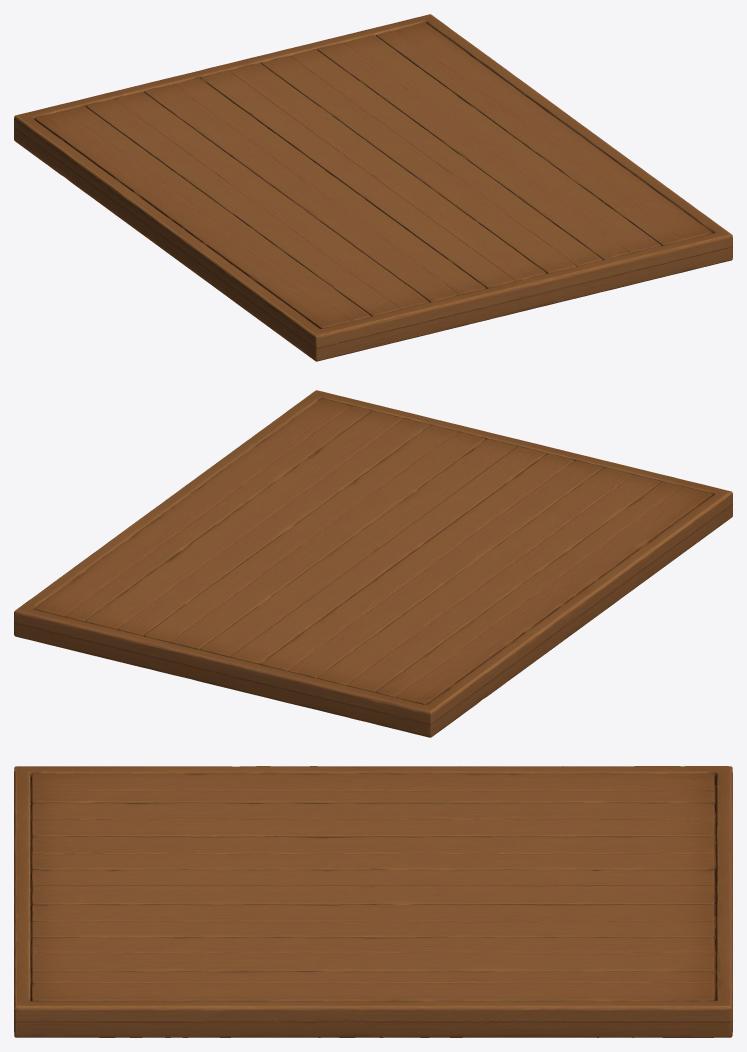
The model's file is plank.glb.
3 views of the same model, one above another, from view 1: azimuth 30°, elevation 25°; view 2: azimuth 150°, elevation 25°; view 3: azimuth 270°, elevation 25° (orthographic). The views are drawn at different scales.
Parts seen in each view (by area): view 1: tripo_node_e6050f06-b7c0-493a-a696-3325ead1f26e; view 2: tripo_node_e6050f06-b7c0-493a-a696-3325ead1f26e; view 3: tripo_node_e6050f06-b7c0-493a-a696-3325ead1f26e.
Boxes of the visible parts, box(x1,y1,x2,y2) form: tripo_node_e6050f06-b7c0-493a-a696-3325ead1f26e: box(14, 14, 732, 361); tripo_node_e6050f06-b7c0-493a-a696-3325ead1f26e: box(14, 390, 732, 737); tripo_node_e6050f06-b7c0-493a-a696-3325ead1f26e: box(14, 766, 732, 1037).
Size of the model in its own units: 0.7807 by 0.0544 by 0.9791.
Materials: 1 (1 with a texture image).
